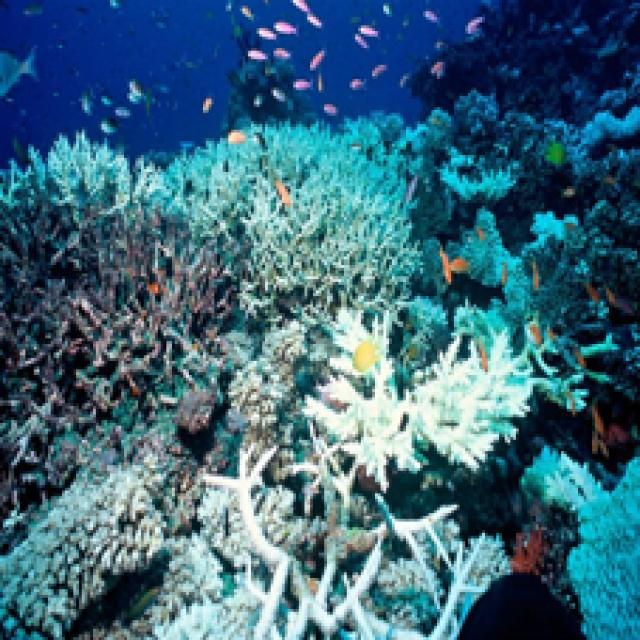Bleached: (179, 125, 418, 320), (303, 311, 531, 477), (1, 458, 162, 638), (204, 458, 235, 475)
Healthy: (1, 142, 235, 523)
